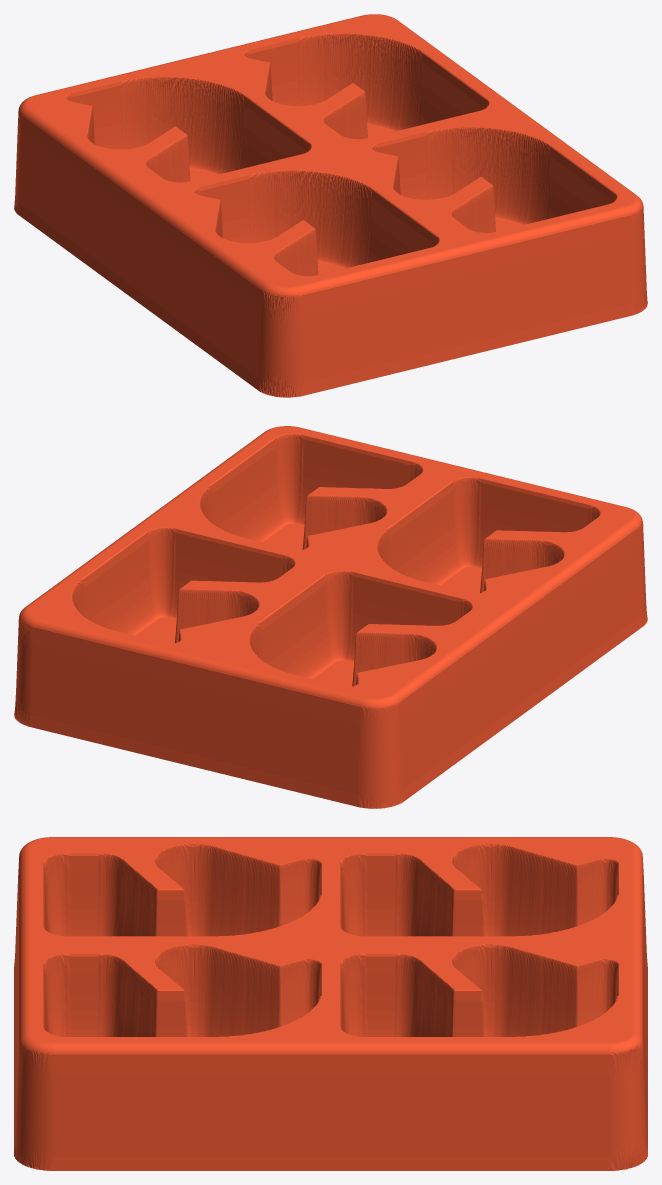
Rendered from mold.glb.
3 views of the same model, one above another, from view 1: azimuth 30°, elevation 25°; view 2: azimuth 150°, elevation 25°; view 3: azimuth 270°, elevation 25° (orthographic). The views are drawn at different scales.
Parts seen in each view (by area): view 1: geometry_0; view 2: geometry_0; view 3: geometry_0.
Part boxes in pixels (x1,y1,x2,y2): geometry_0: (14,14,647,397); geometry_0: (14,426,647,808); geometry_0: (14,837,647,1170).
Bounding box in the file's own units: 0.1193 × 0.031 × 0.1466.
